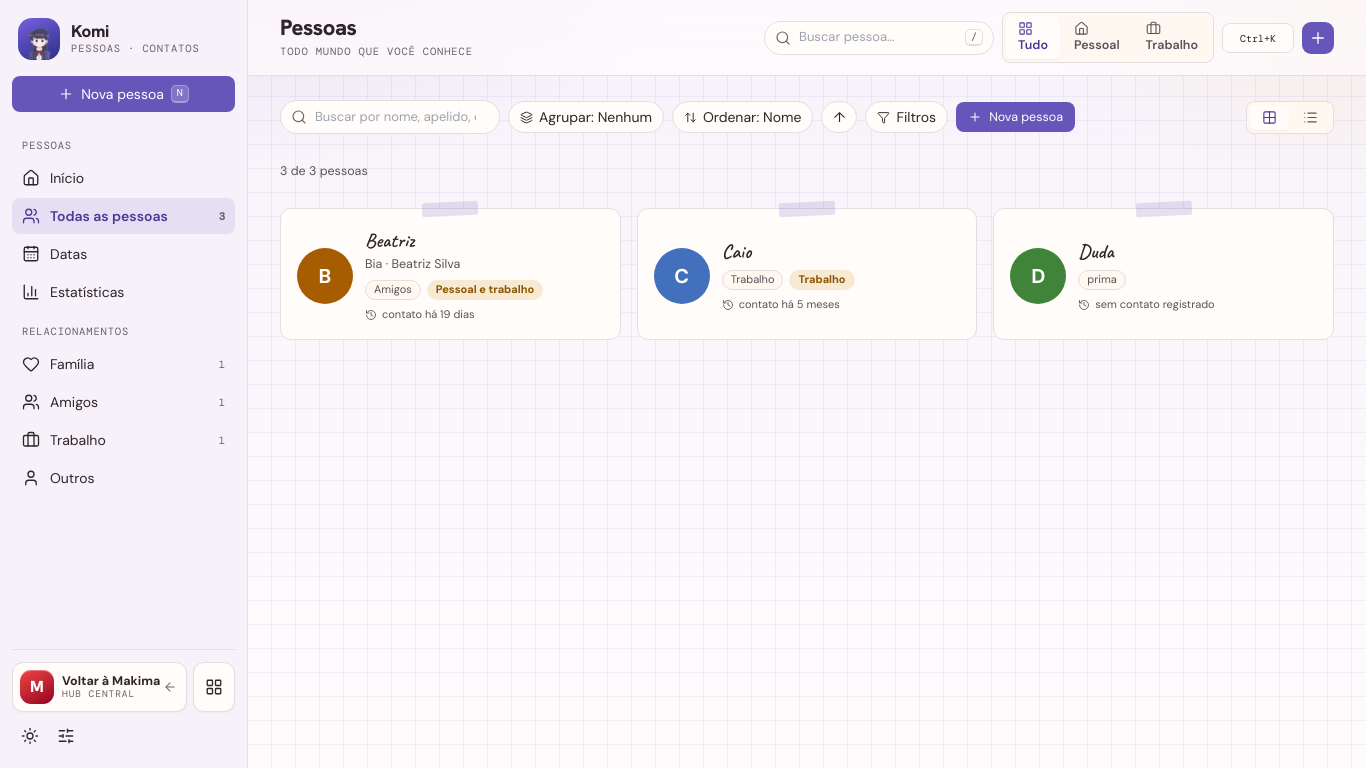
cadastro › nome repetido volta do servidor e aparece no campo, sem fechar o formulário
Expected: the text "Duda" is shown, [1078,239,1114,264]
Click the button "Nova pessoa N": (124, 94) [12,76,235,112]
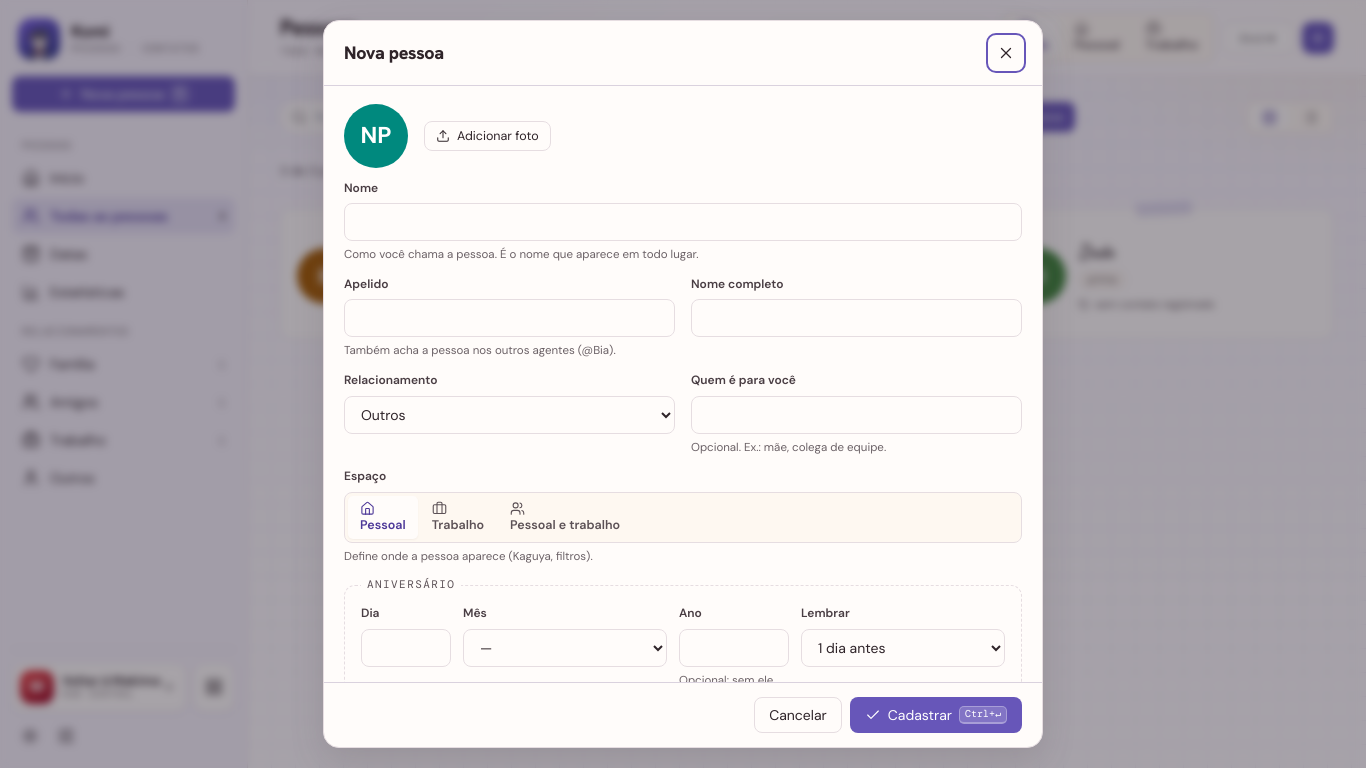
In the field labelled "Nome": (683, 222) [344,203,1022,241], type "Outra"
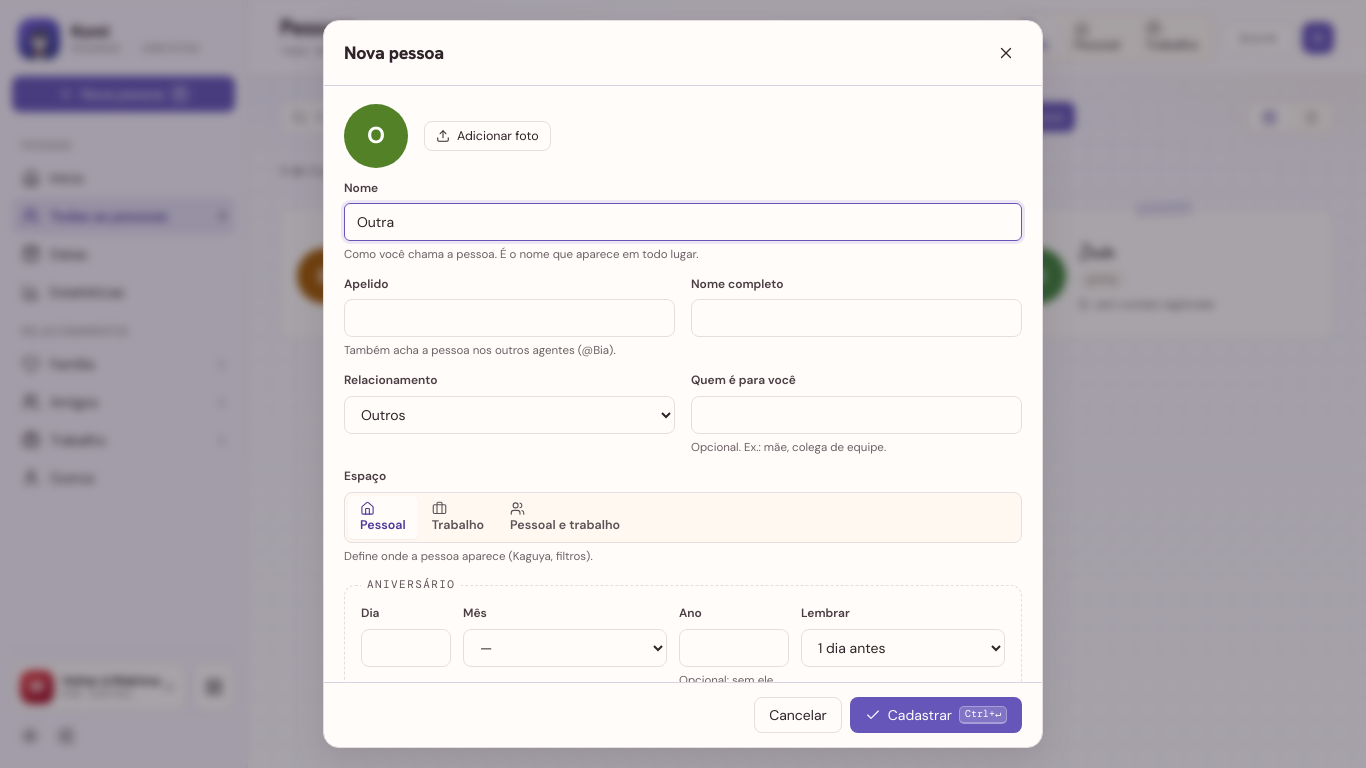
In the field labelled "Apelido": (510, 318) [344,300,675,338], type "Bia"
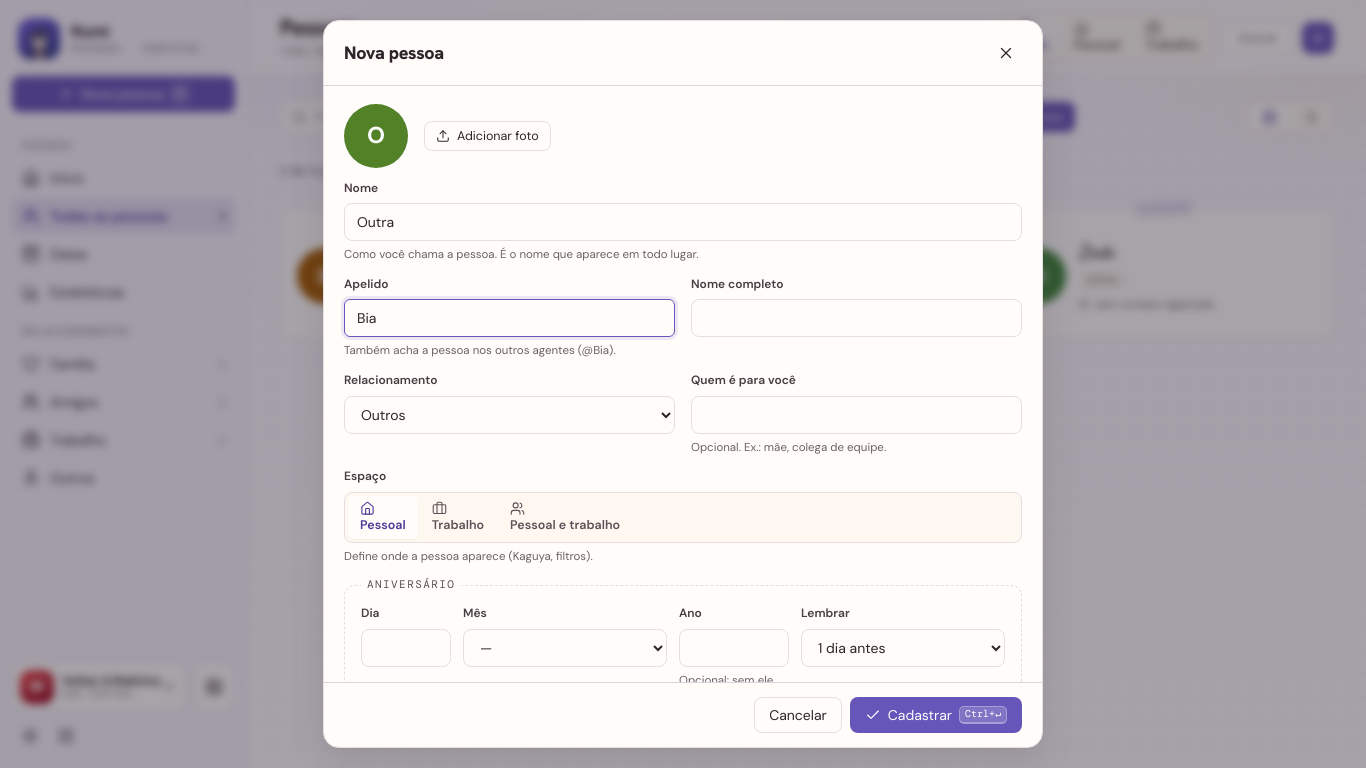
Click the button "Cadastrar Ctrl+↵": (936, 715) [850,697,1022,733]
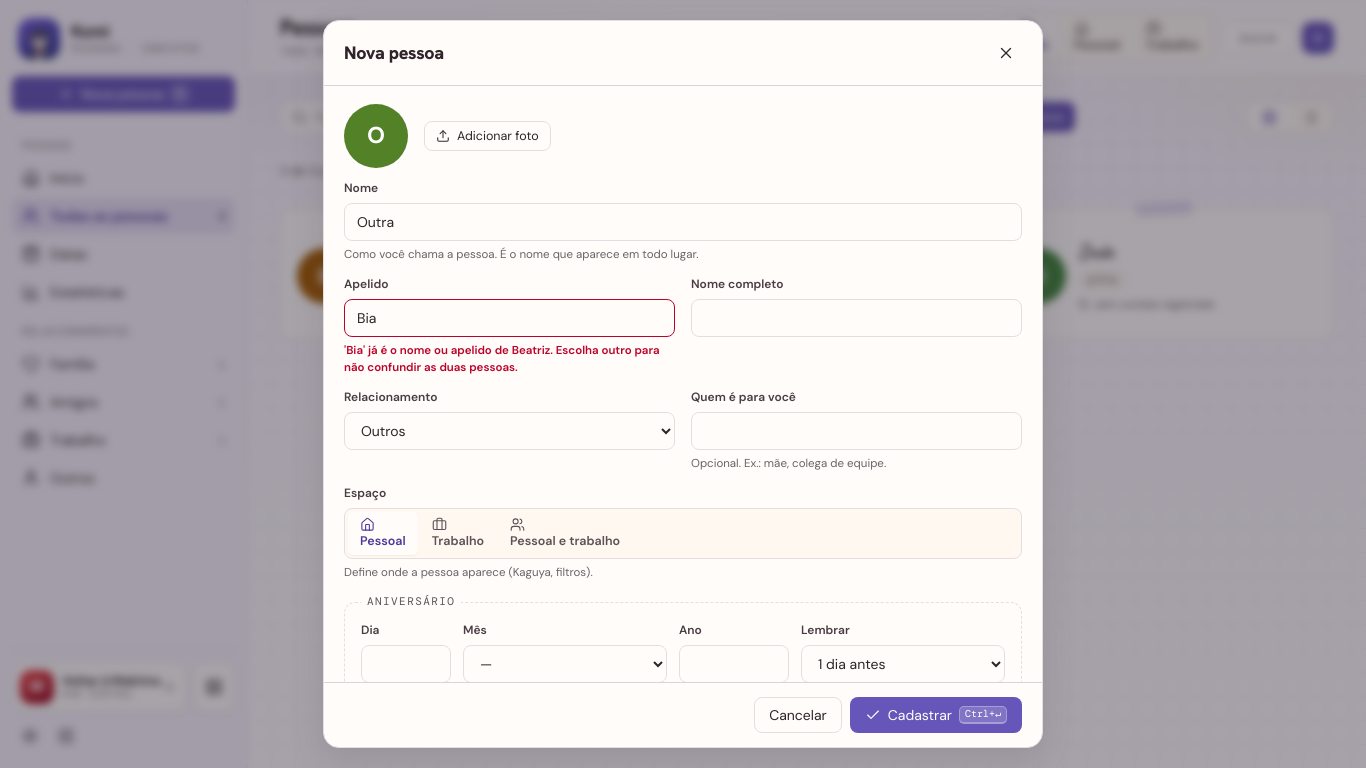
Expected: the text "já é o nome ou apelido de Beatriz" is shown, [344,344,660,375]
